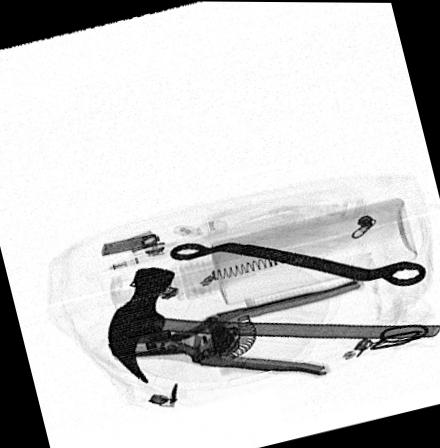Hammer: (102, 265, 440, 386)
Pliers: (112, 276, 365, 376)
Wrench: (169, 238, 425, 286)
